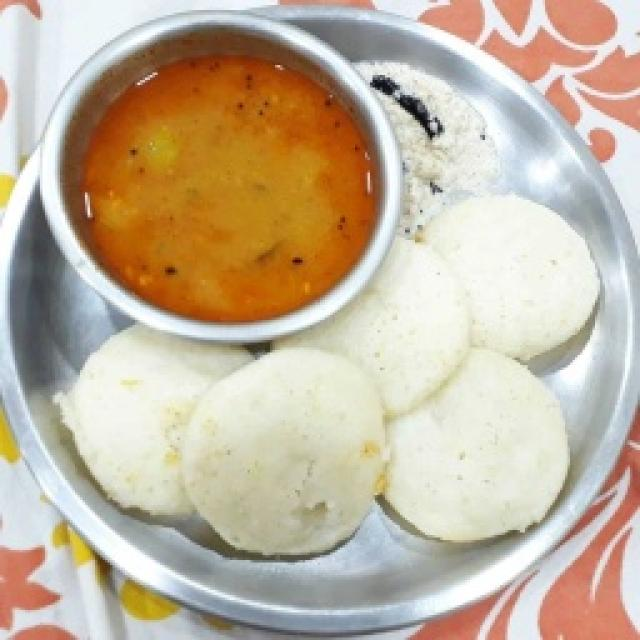idli: (183, 348, 384, 554), (55, 325, 252, 514), (385, 348, 569, 542), (275, 238, 469, 417), (425, 195, 599, 359)
